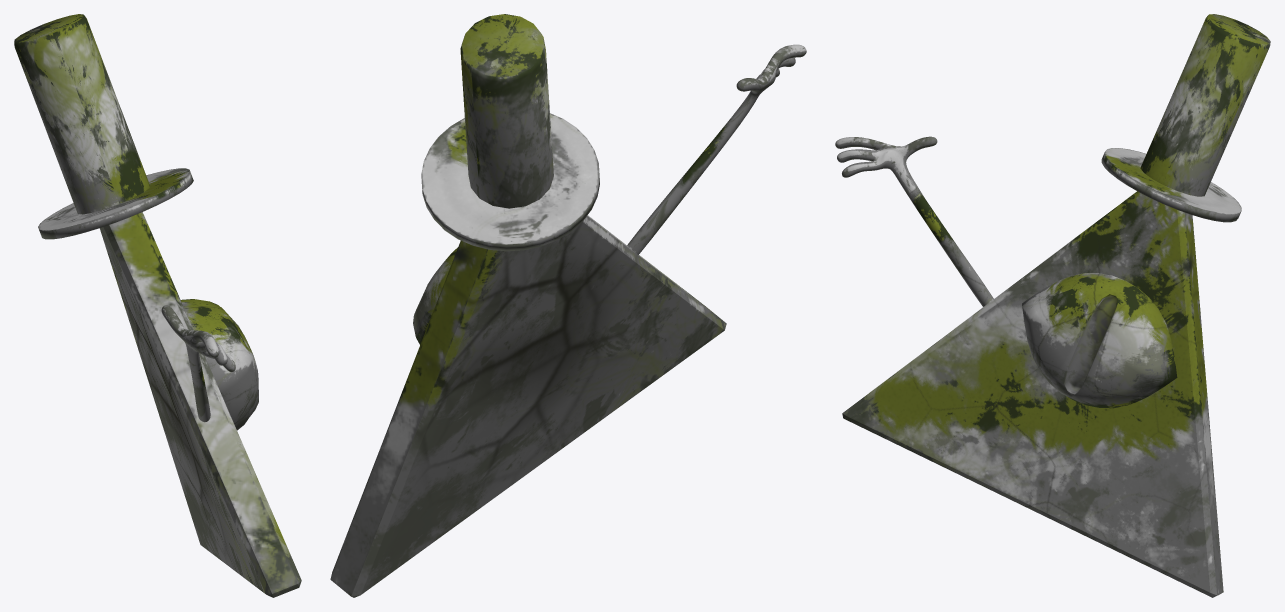
File: Estatua Bill.obj
3 views of the same model, side by side, from view 1: azimuth 30°, elevation 25°; view 2: azimuth 150°, elevation 25°; view 3: azimuth 270°, elevation 25° (orthographic). The views are drawn at different scales.
Parts seen in each view (by area): view 1: Cube, Cylinder_002, Cylinder, Cylinder_001, Cube_001; view 2: Cube, Cylinder_002, Cylinder_001, Cube_001, Cylinder; view 3: Cube, Cylinder, Cylinder_002, Cube_001, Cylinder_001.
Boxes of the visible parts, left/top/right/bottom form: Cube: left=99, top=212, right=301, bottom=597; Cylinder_002: left=14, top=14, right=149, bottom=214; Cylinder: left=181, top=299, right=258, bottom=430; Cylinder_001: left=38, top=168, right=193, bottom=239; Cube_001: left=161, top=305, right=235, bottom=422; Cube: left=330, top=215, right=726, bottom=597; Cylinder_002: left=460, top=14, right=553, bottom=208; Cylinder_001: left=421, top=113, right=599, bottom=251; Cube_001: left=627, top=44, right=806, bottom=254; Cylinder: left=413, top=247, right=457, bottom=344; Cube: left=842, top=191, right=1223, bottom=597; Cylinder: left=1022, top=273, right=1177, bottom=408; Cylinder_002: left=1140, top=14, right=1270, bottom=196; Cube_001: left=835, top=136, right=993, bottom=306; Cylinder_001: left=1101, top=148, right=1241, bottom=222.
Bounding box in the file's own units: 10.92 × 25.56 × 19.64.
